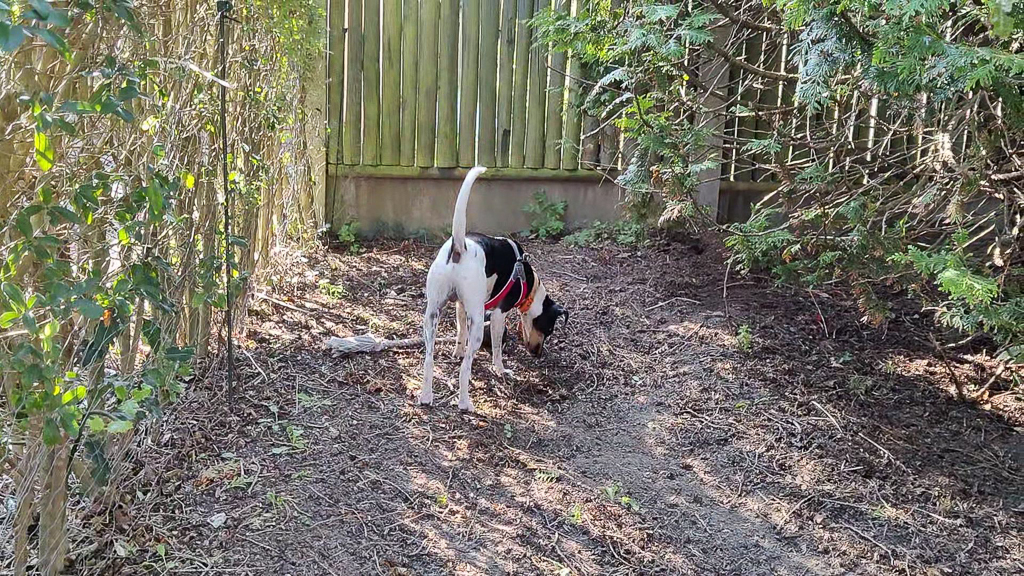Dog: (403, 154, 582, 425)
